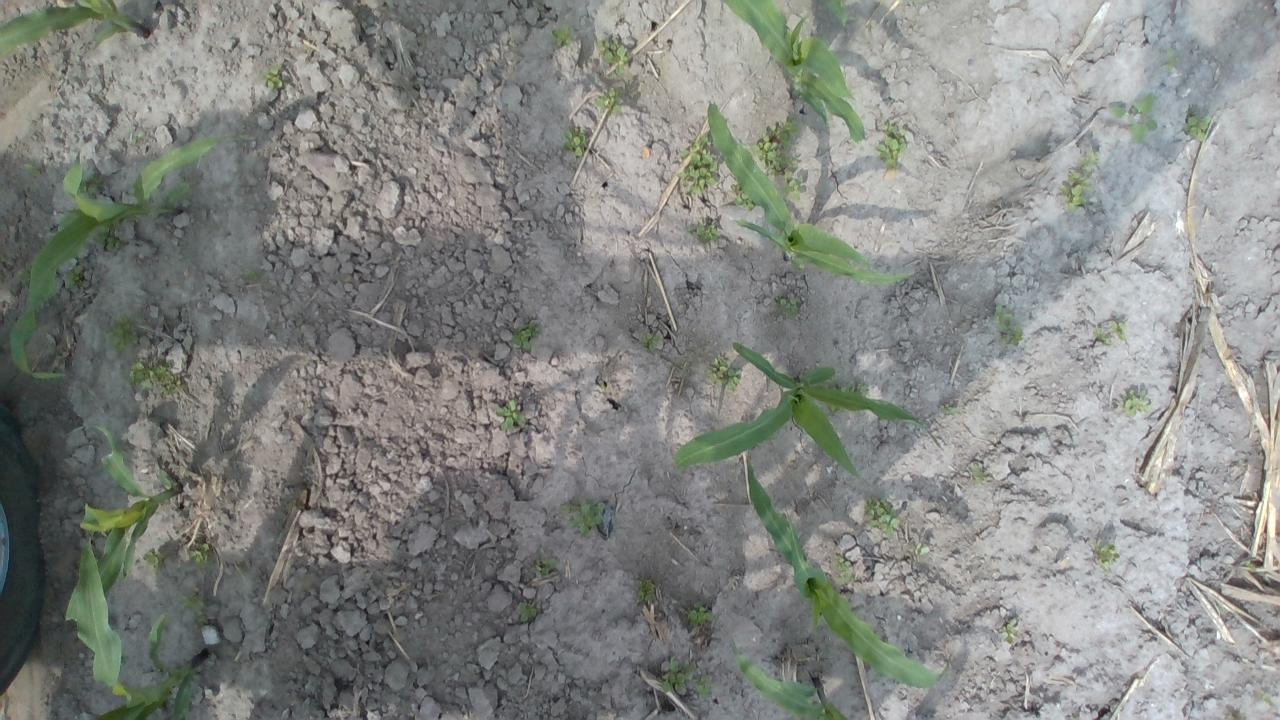Maize: (8, 132, 246, 378), (737, 447, 954, 687), (703, 99, 916, 286), (676, 340, 941, 476), (68, 532, 216, 720), (56, 422, 178, 650), (714, 0, 872, 145), (721, 635, 845, 720), (0, 0, 150, 55)
Weeds: (743, 114, 802, 176), (676, 130, 720, 197), (1108, 92, 1160, 141), (1061, 148, 1100, 212), (125, 358, 183, 396), (558, 494, 606, 536), (862, 494, 902, 538), (704, 353, 744, 391), (878, 120, 908, 170), (104, 312, 142, 351), (993, 304, 1025, 348), (596, 36, 630, 76), (660, 656, 696, 692), (1118, 386, 1152, 418), (94, 218, 125, 253), (183, 586, 209, 626), (509, 318, 541, 350), (496, 397, 526, 430), (1181, 110, 1214, 140), (780, 169, 810, 201), (686, 214, 718, 243), (1092, 536, 1118, 570), (560, 127, 587, 158), (830, 554, 855, 586), (826, 379, 868, 398), (187, 540, 213, 570), (998, 612, 1022, 644), (595, 88, 623, 115), (730, 182, 756, 211), (261, 62, 285, 92), (632, 577, 656, 606), (772, 292, 801, 316), (687, 598, 713, 624), (536, 549, 560, 576), (78, 174, 103, 198), (696, 674, 720, 698), (640, 330, 664, 354), (1162, 46, 1182, 74), (144, 548, 166, 572), (550, 23, 572, 46), (516, 600, 540, 621), (1254, 687, 1278, 708), (64, 264, 84, 288), (1108, 319, 1127, 342), (1093, 326, 1113, 347), (969, 463, 988, 483), (17, 264, 34, 284), (23, 162, 40, 178), (242, 266, 260, 281), (913, 542, 931, 556), (130, 131, 146, 146), (940, 402, 959, 414), (1243, 559, 1257, 571), (828, 402, 844, 412)
